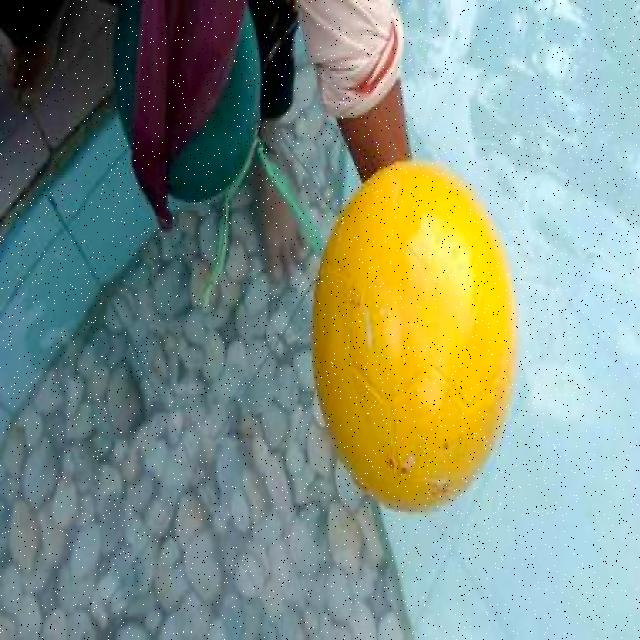buoy: (312, 160, 516, 513)
